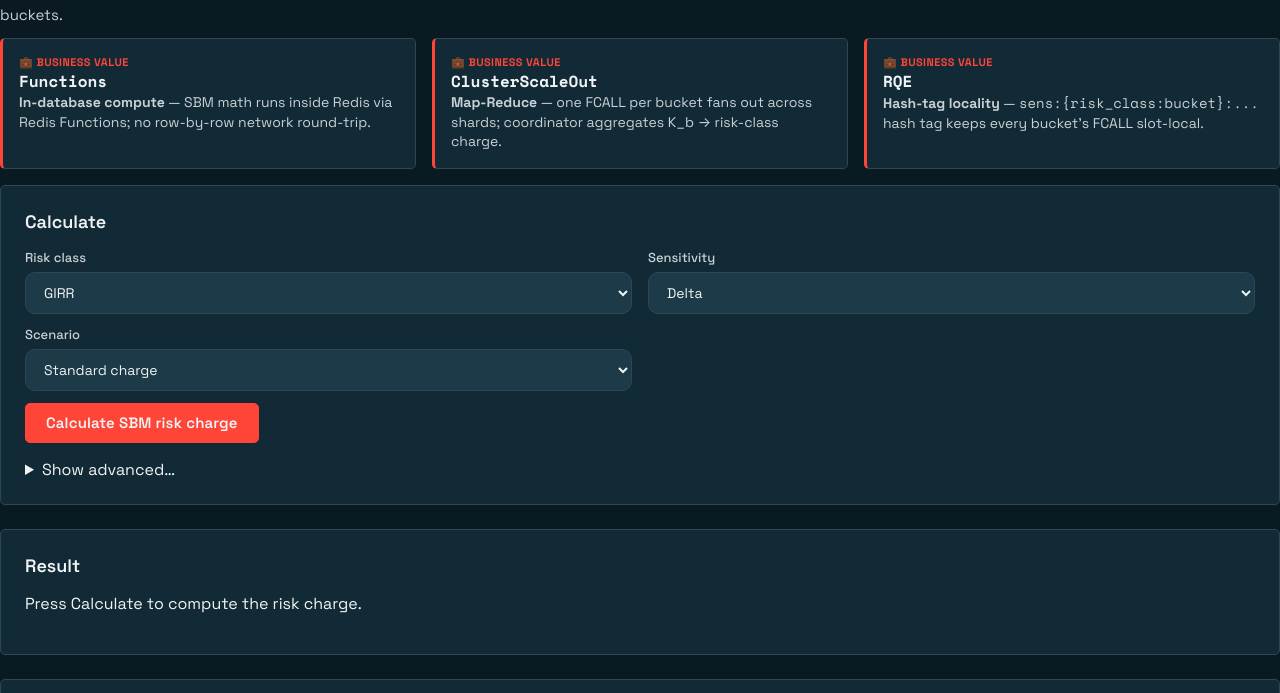
Test case: CalcPanel Wave 5.18 polish + drill-down › Wave 5.21a: GIRR Vega drill-down renders sparkline from tenor-keyed risk_value
Select "Vega" in the dropdown labelled "Sensitivity". click: (952, 293)
box: [648,272,1255,314]
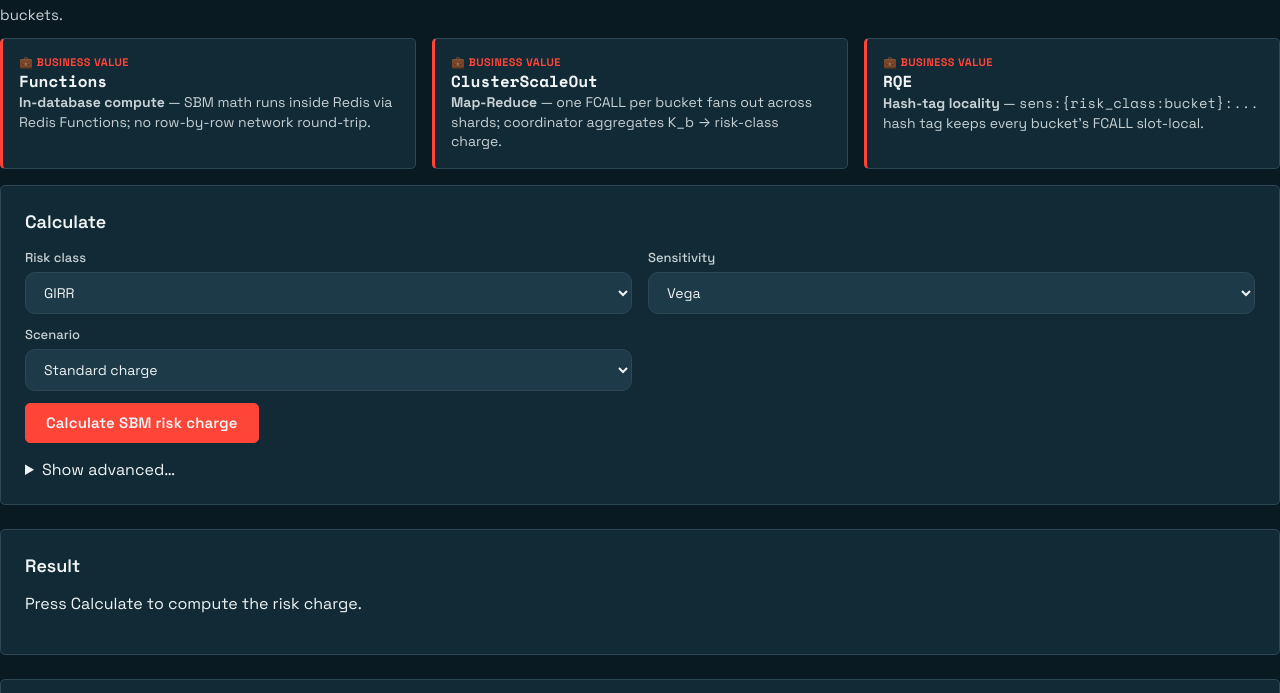
Click the button "Calculate SBM risk charge". click: click(142, 423)
box: [25,403,259,443]
(page scrolled)
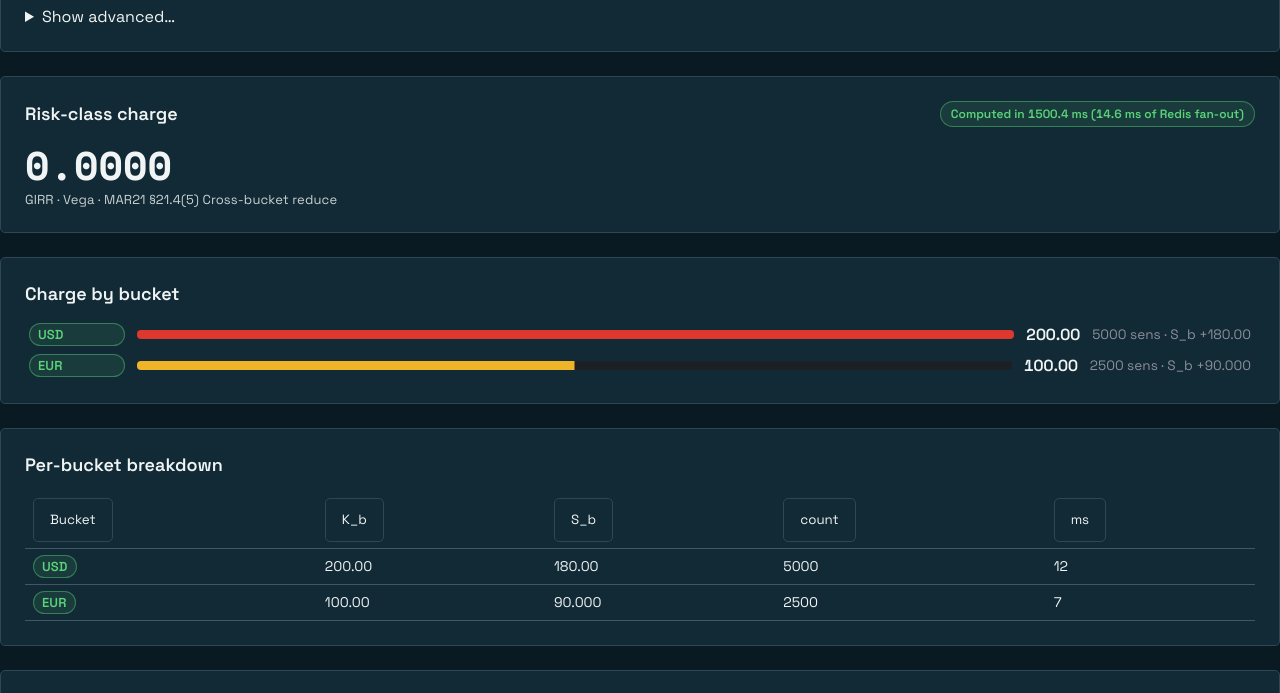
Expected: the text "0.0000" is shown, [25,143,172,187]
Click the button with test id "bucket-chart-row" that starts with "USD". click: click(640, 334)
box: [25,321,1255,348]
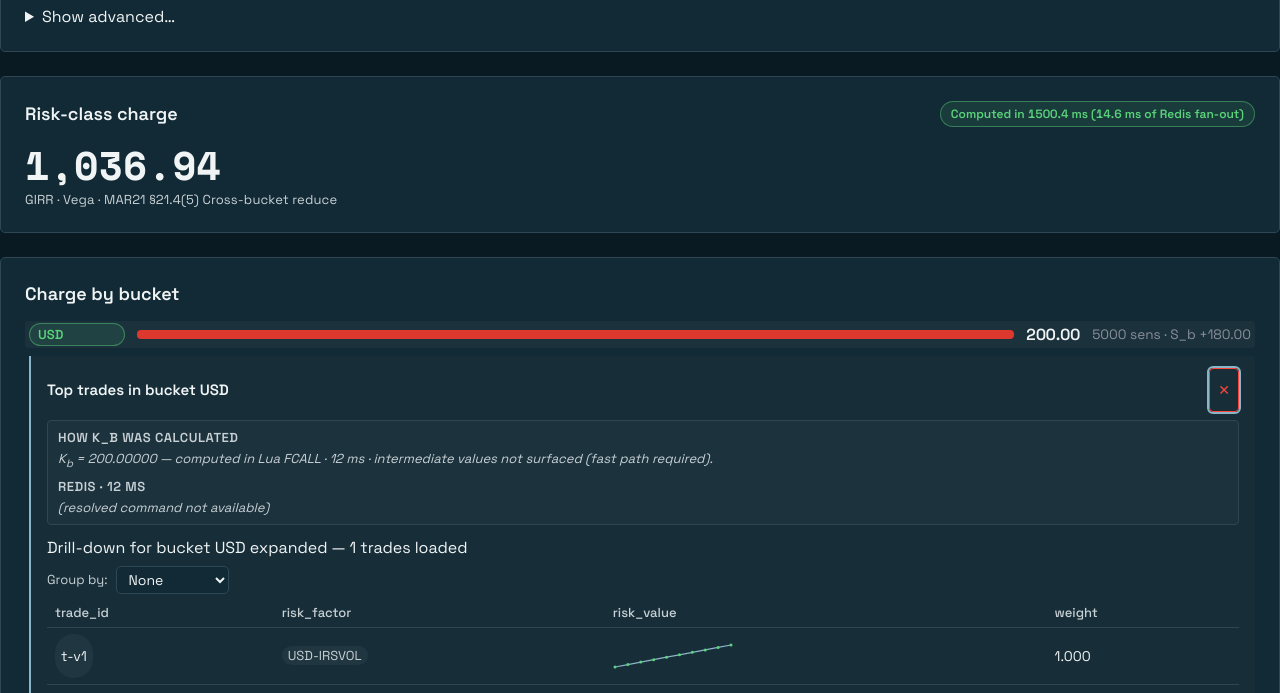
Expected: the row with test id "drilldown-row" is shown, [47,627,1239,684]
